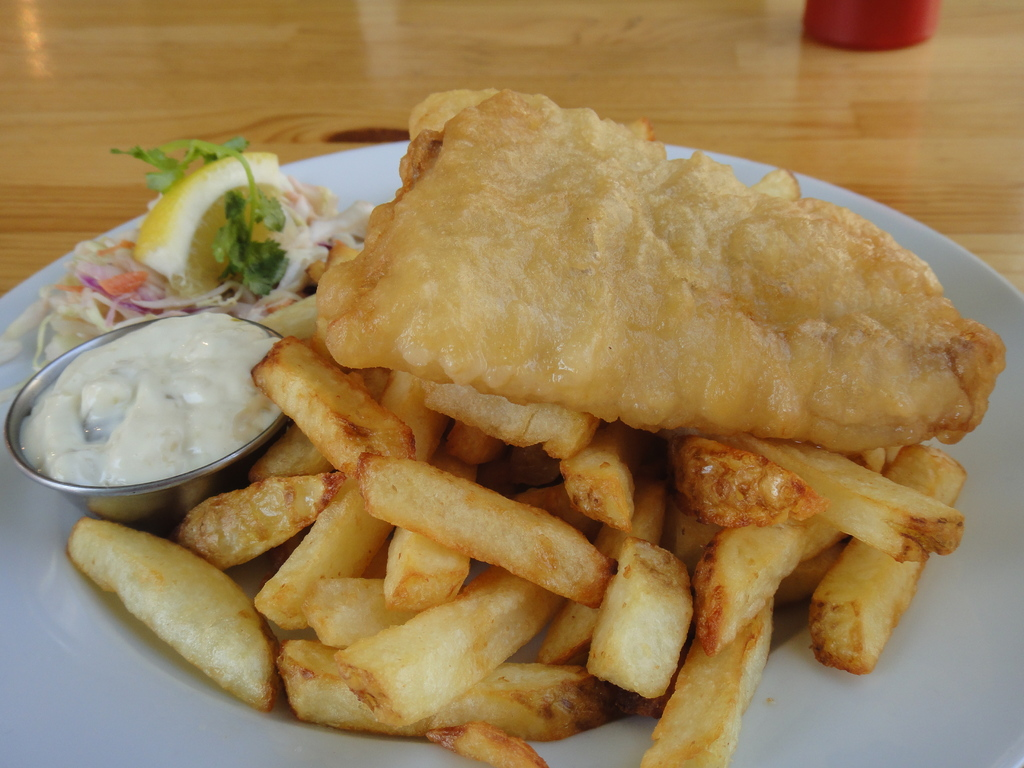French fries: (53, 247, 1000, 732)
